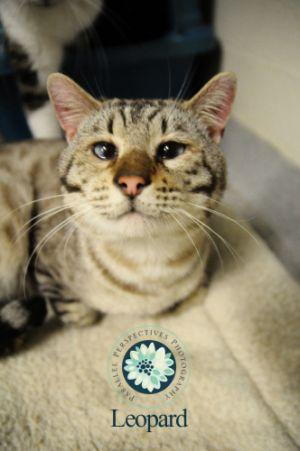bengal: (41, 68, 251, 244)
